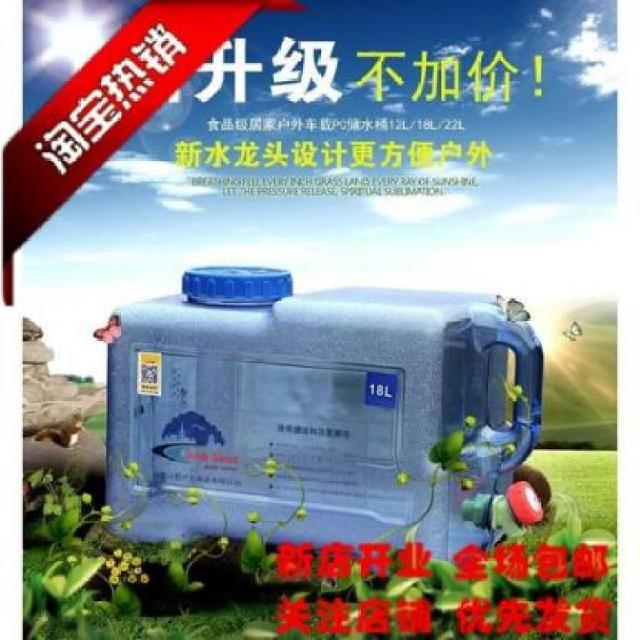coolerbottle: (102, 260, 550, 563)
